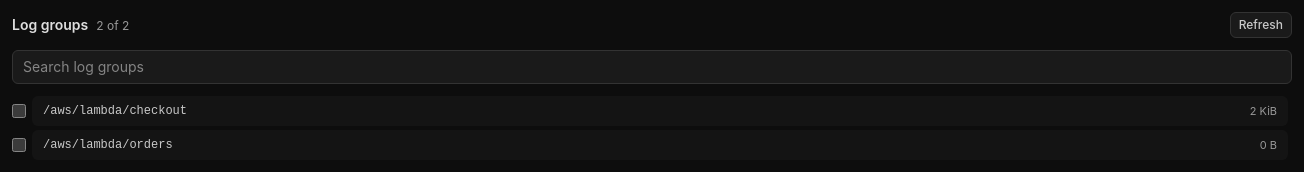
Test: LogGroupList › shows a message when nothing matches the search
The width and height of the screenshot is (1304, 172).
Type "nothing" into the search field labelled "Search log groups".
click(652, 67); type("nothing")  # box 12,50 -> 1292,84
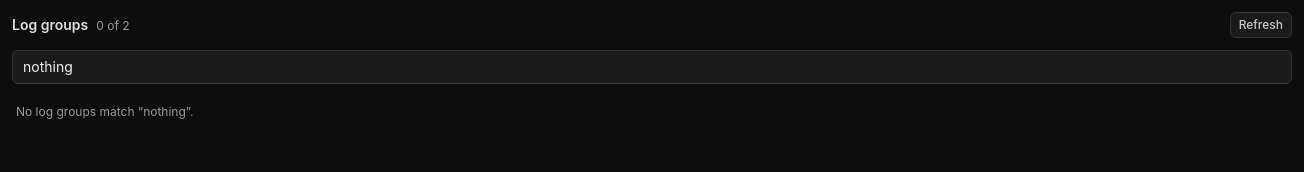
Result: the text with test id "group-no-match" shows "nothing" at 16,104 -> 193,119
